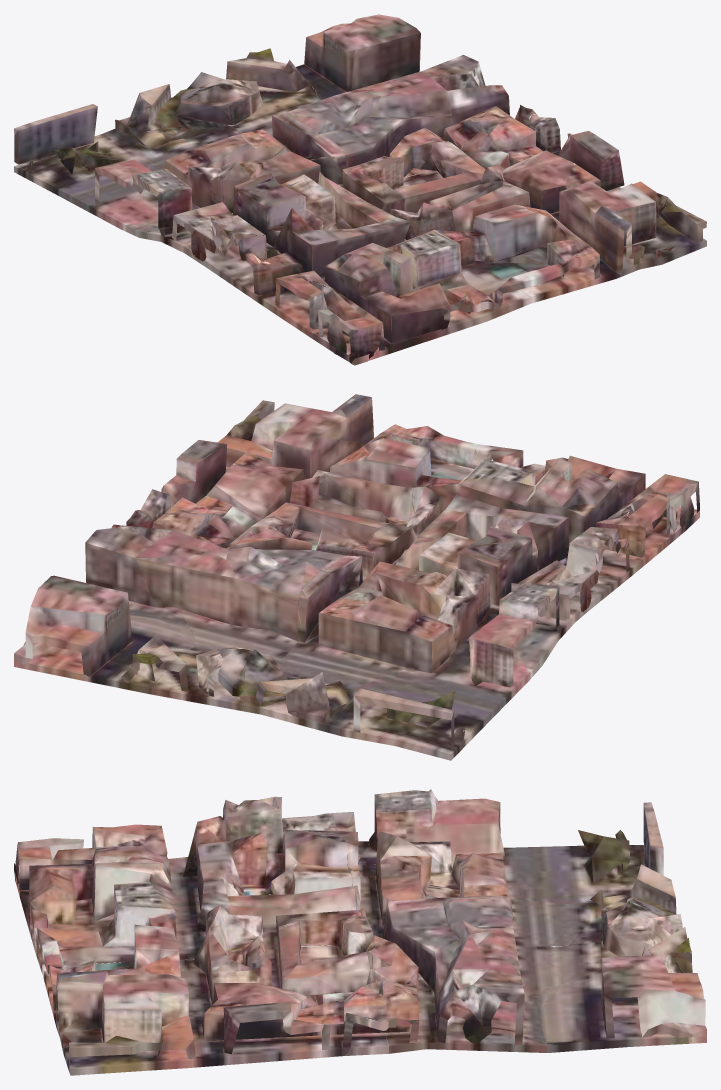
3 views of the same model, one above another, from view 1: azimuth 30°, elevation 25°; view 2: azimuth 150°, elevation 25°; view 3: azimuth 270°, elevation 25° (orthographic). The views are drawn at different scales.
Parts seen in each view (by area): view 1: Mesh_0; view 2: Mesh_0; view 3: Mesh_0.
Boxes of the visible parts, left/top/right/bottom form: Mesh_0: left=14, top=14, right=706, bottom=365; Mesh_0: left=14, top=394, right=699, bottom=760; Mesh_0: left=14, top=789, right=706, bottom=1075.
Bounding box in the file's own units: 266 × 40.77 × 330.
Materials: 2 (2 with a texture image).
